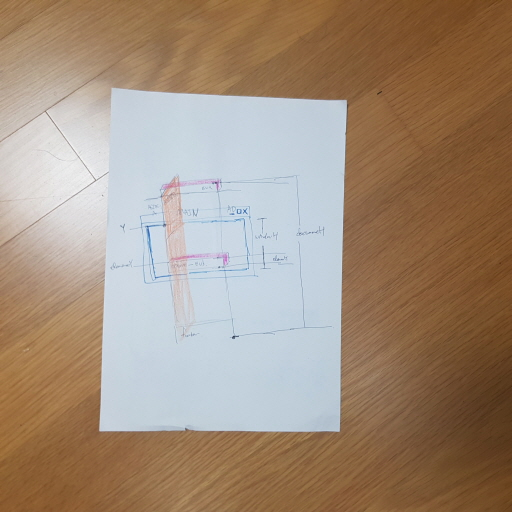Paper_2: (94, 83, 353, 445)
